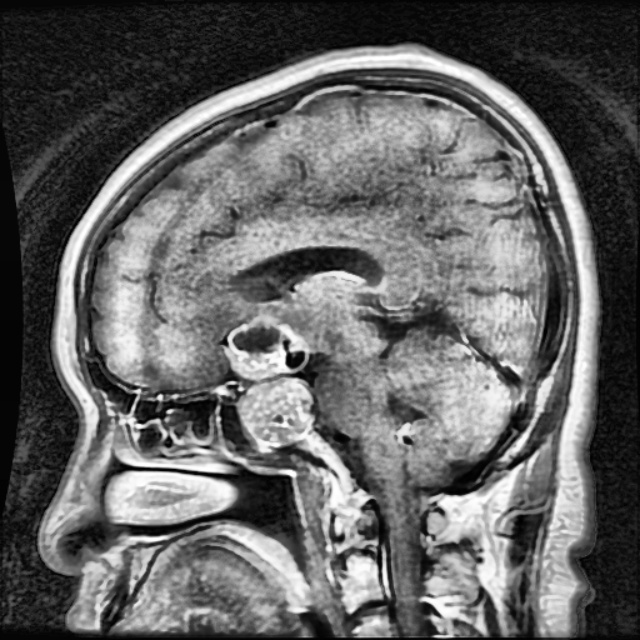Pituitary: (228, 315, 313, 444)
